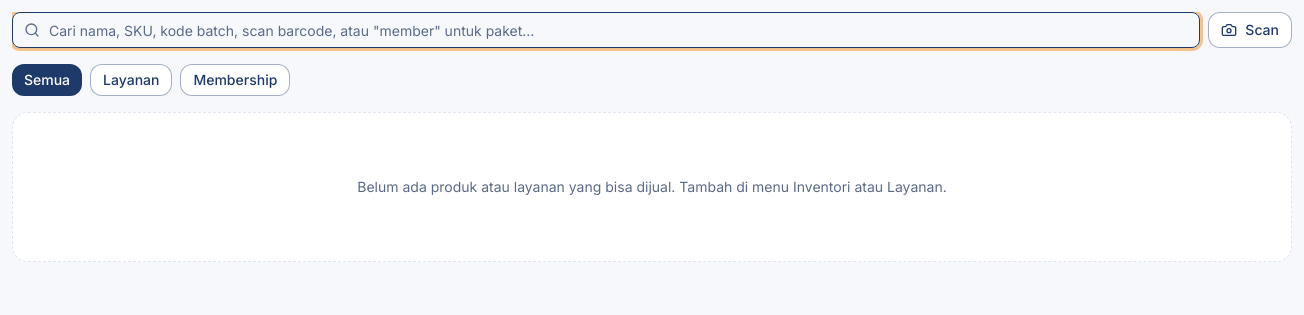
Test: a handheld scanner typing into the search box › leaves the code in the box when nothing matches it exactly
Step 1. Type "RC-KI" into the field named "cari produk" → (606, 30), box [12,12,1200,48]
Then press Enter
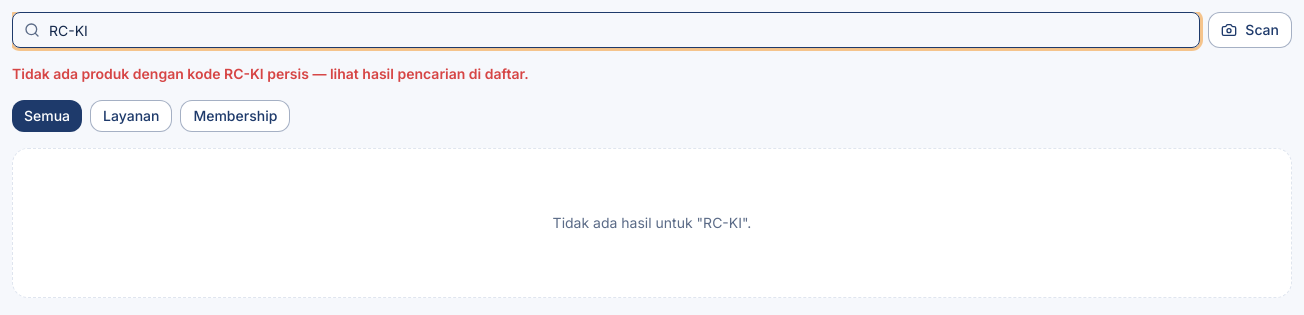
Now the text "Tidak ada produk dengan kode" is shown, box [12,65,529,82]
